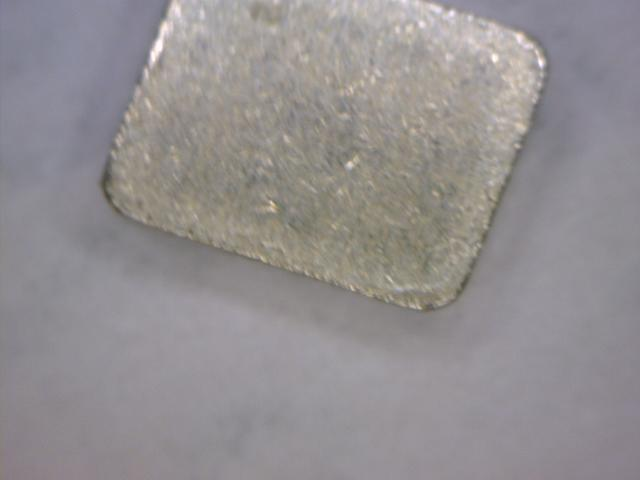ok: (95, 3, 555, 313)
